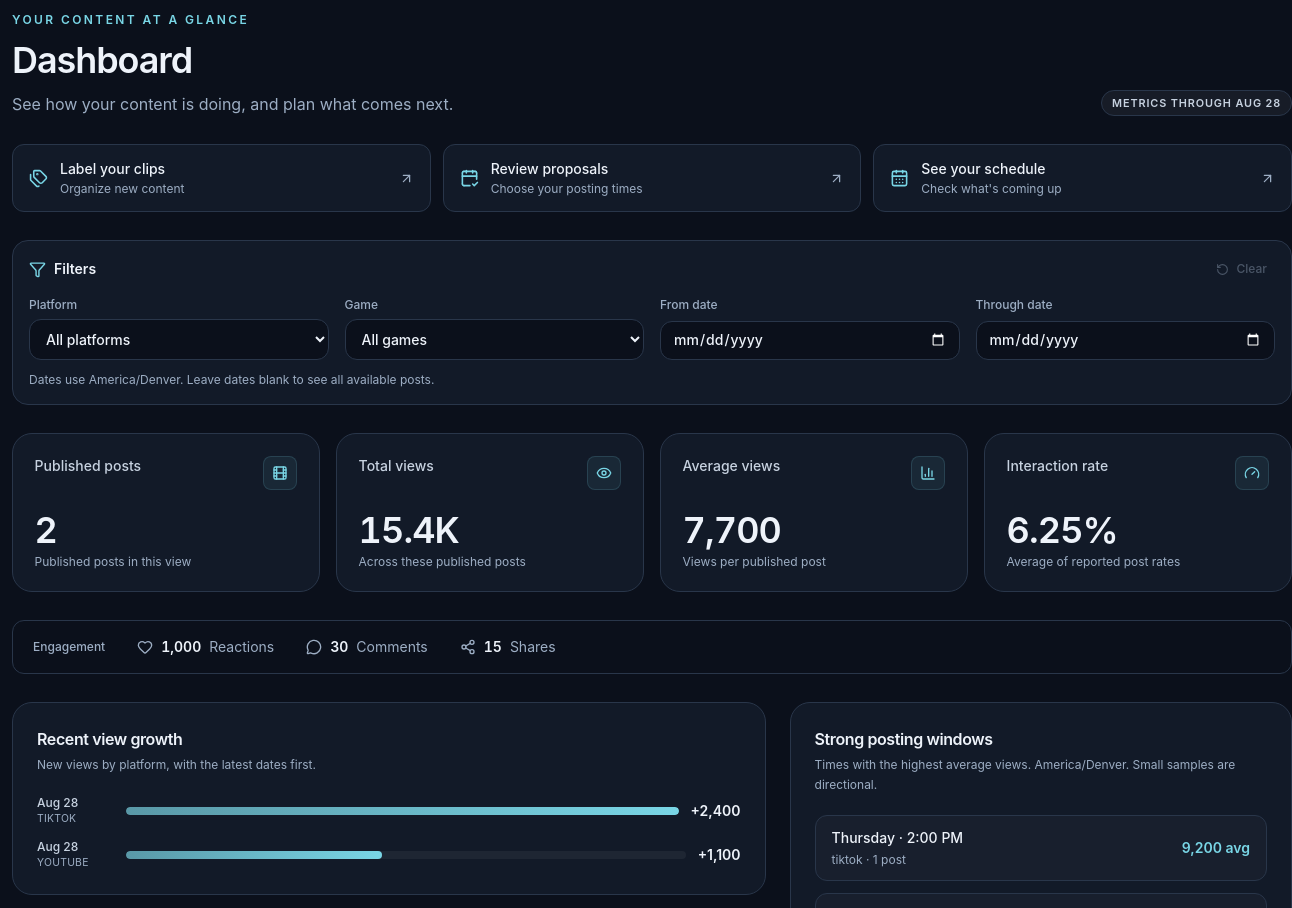
DashboardView › filters every post-backed dashboard metric without changing source data
Select "youtube" in the dropdown labelled "Platform" at (179, 340), box [29,319,328,360]
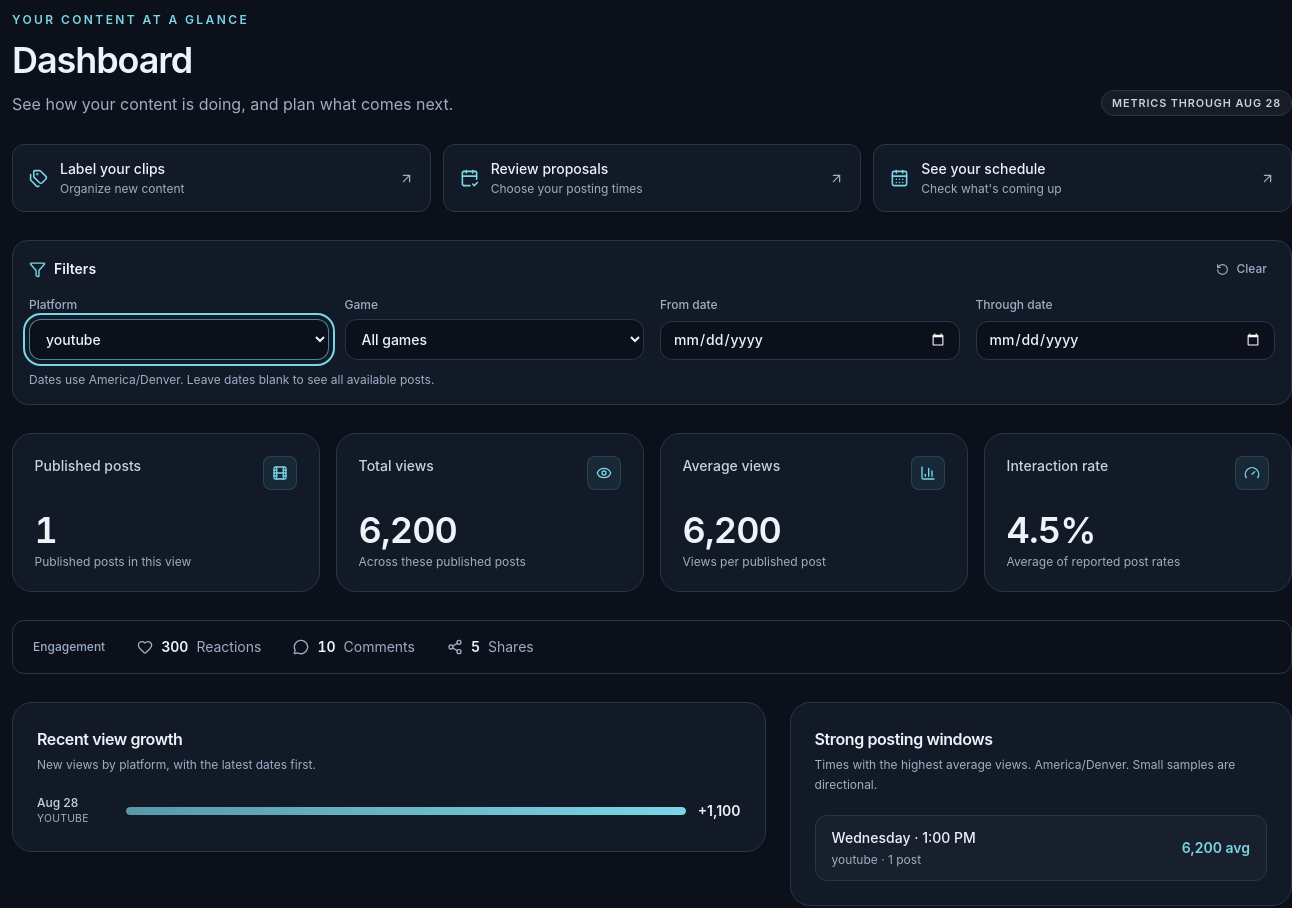
Expected: the text "6,200" below "Total views" is shown, [359,508,457,552]
Expected: the text "300" is shown, [161,637,188,657]
